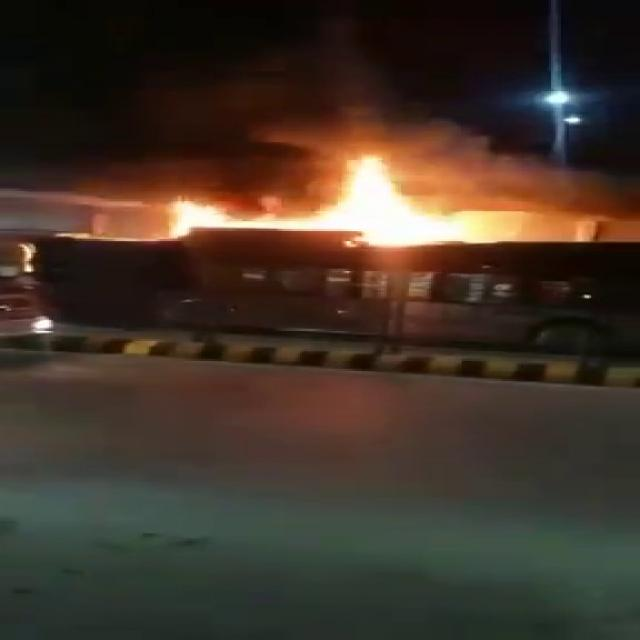Fire: (273, 161, 640, 247), (153, 194, 333, 239)
